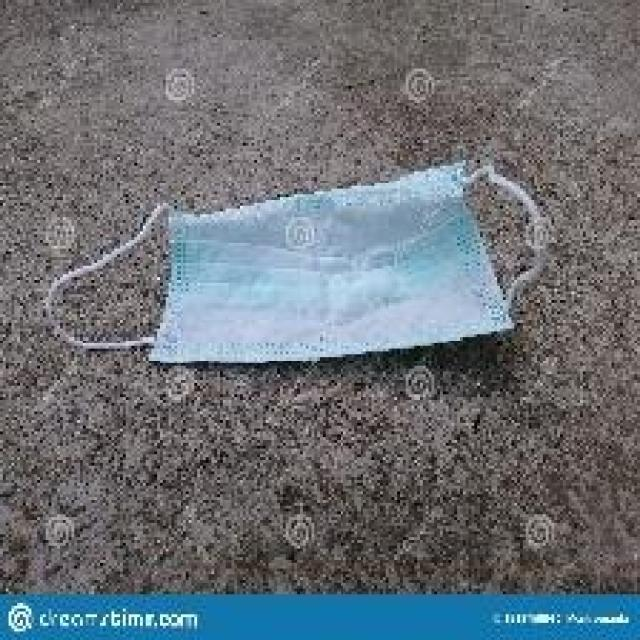Mask: (35, 176, 566, 396)
